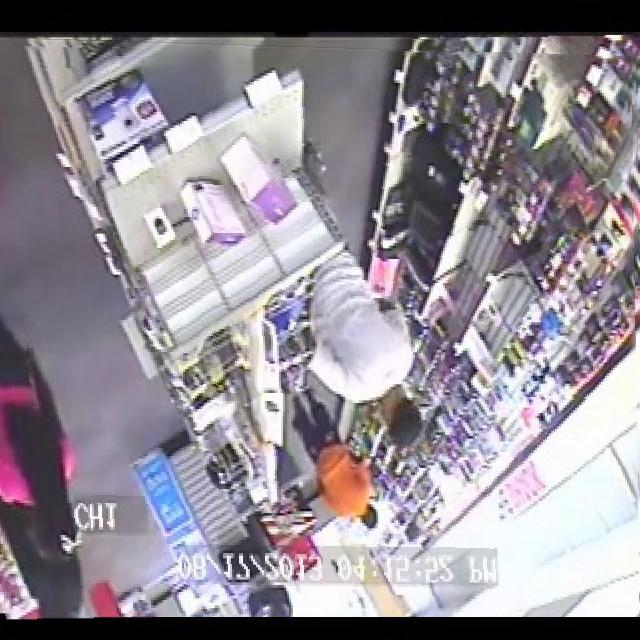Normal: (0, 37, 640, 617)
